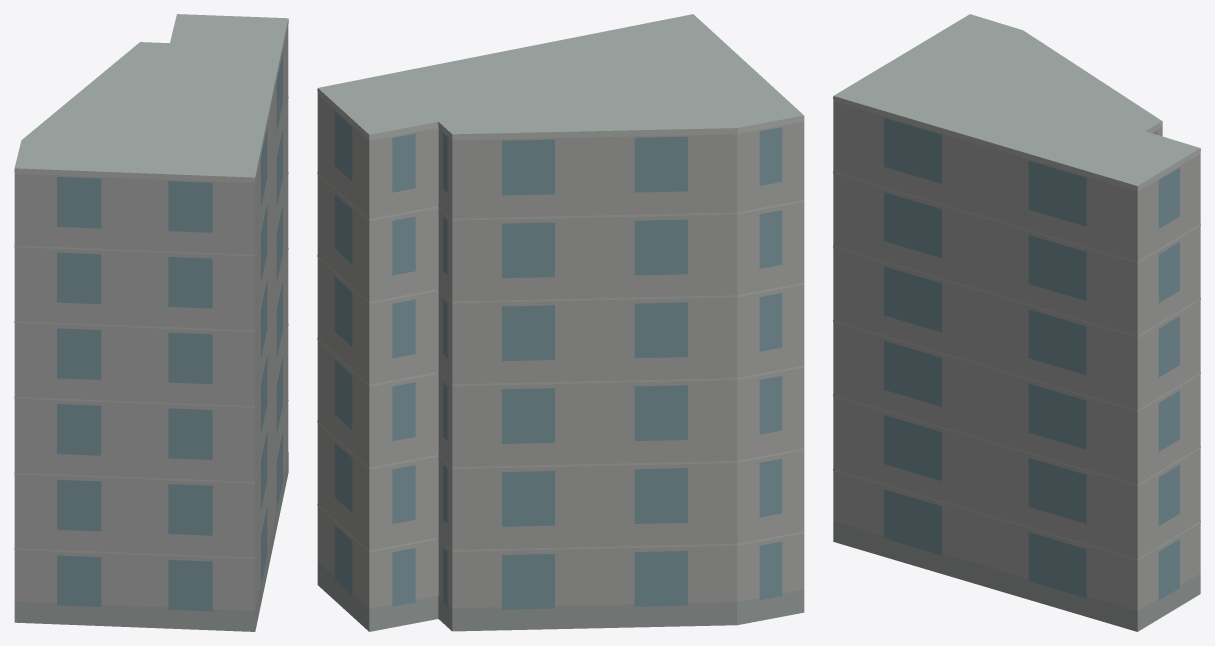
Rendered from survey-upis-32768383.glb.
3 views of the same model, side by side, from view 1: azimuth 30°, elevation 25°; view 2: azimuth 150°, elevation 25°; view 3: azimuth 270°, elevation 25° (orthographic). The views are drawn at different scales.
Visible parts, largest first — view 1: survey-upis-32768383.tmp; view 2: survey-upis-32768383.tmp; view 3: survey-upis-32768383.tmp.
Part boxes in pixels (left/top/right/bottom): survey-upis-32768383.tmp: left=14, top=14, right=288, bottom=631; survey-upis-32768383.tmp: left=317, top=14, right=804, bottom=631; survey-upis-32768383.tmp: left=833, top=14, right=1200, bottom=631.
Size of the model in its own units: 16.24 by 19.6 by 14.66.
